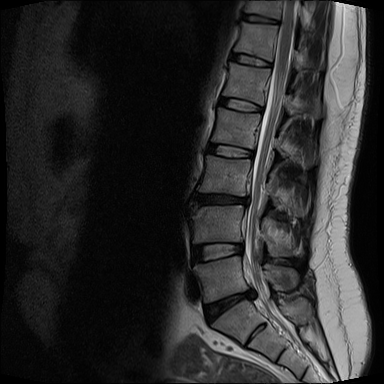Lumbar Disc Bulge (LDB): (195, 278, 260, 331), (187, 187, 256, 212)
Normal IVD: (184, 235, 248, 269), (201, 136, 258, 165), (211, 93, 269, 117), (223, 49, 277, 72), (235, 11, 285, 29)
Spinal Stenosis (SS): (241, 278, 262, 306), (240, 188, 258, 211)
